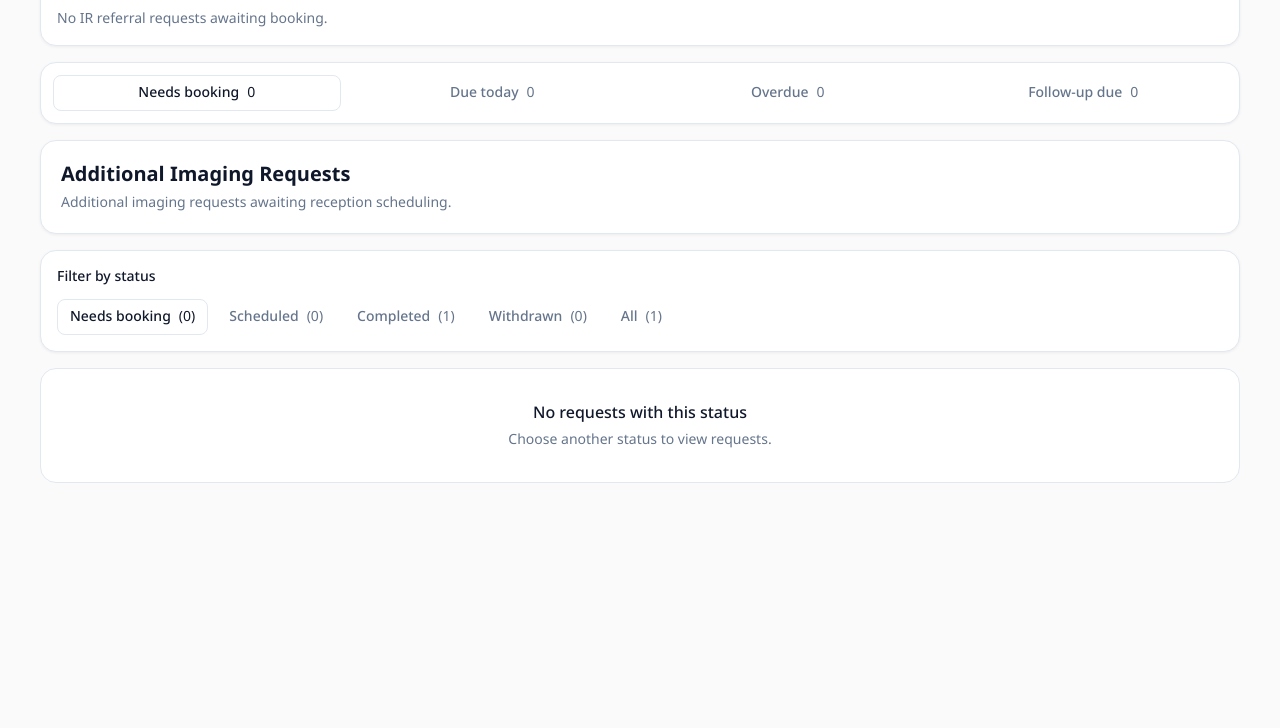
Test: Recall Requests metadata › shows no usable send action when the assigned doctor has no email address
Step 1. Click the button "Completed (1)" → (406, 318), box [344,300,468,336]
(page scrolled)
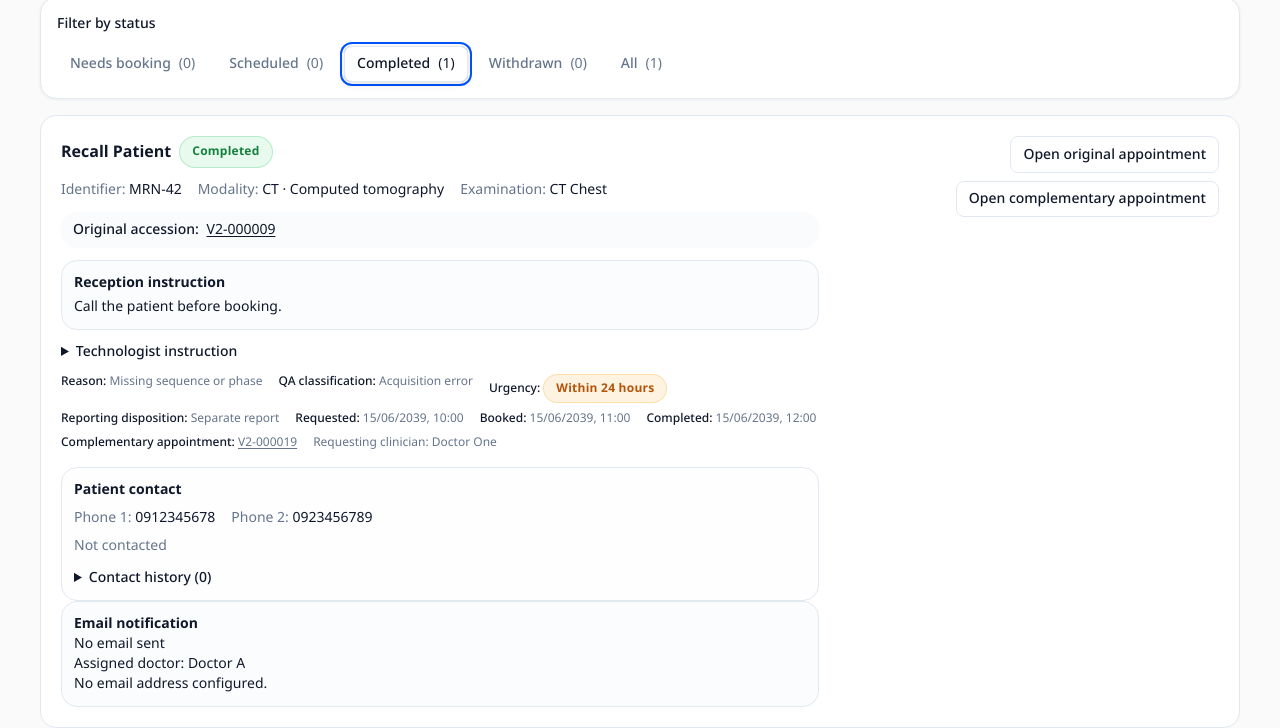
Check: the text "No email address configured." is shown, box [74,669,267,698]
